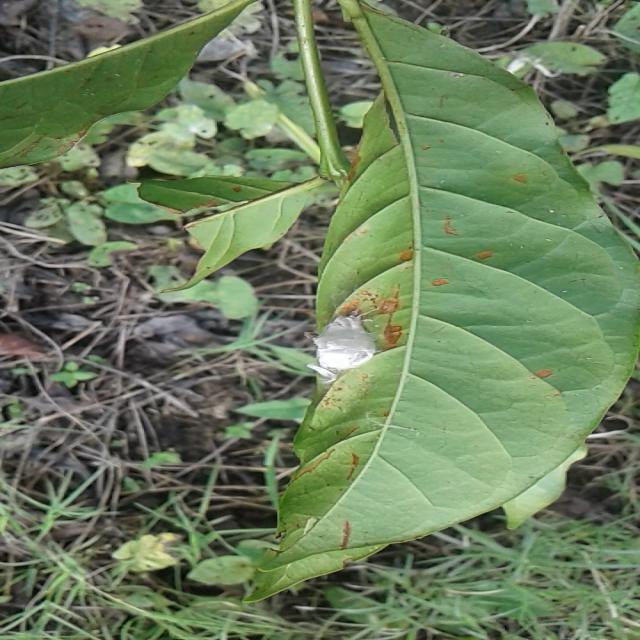Plaga-AranaRoja: (244, 0, 640, 602)
